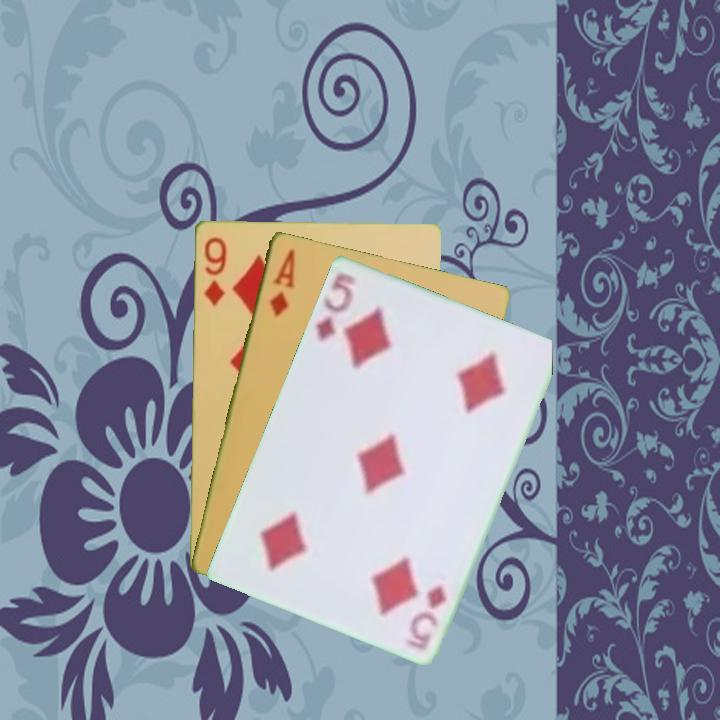5d: (311, 268, 360, 345), (411, 580, 449, 639)
9d: (200, 233, 229, 308)
Ad: (266, 245, 298, 320)
